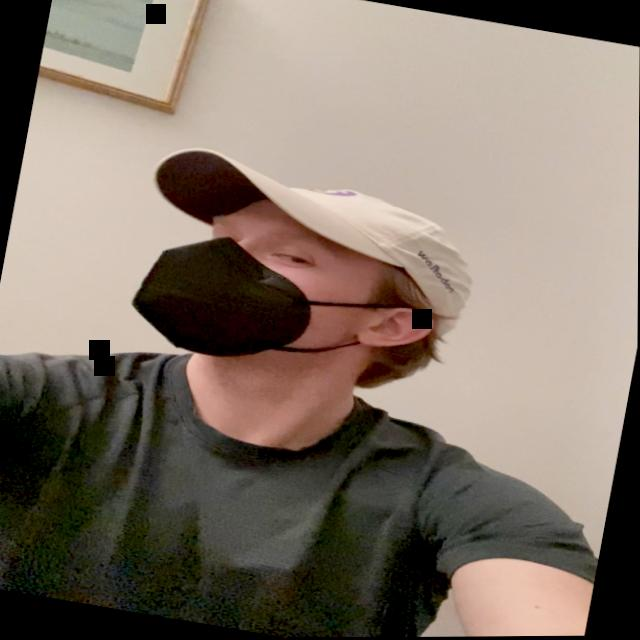Mask: (122, 180, 390, 383)
